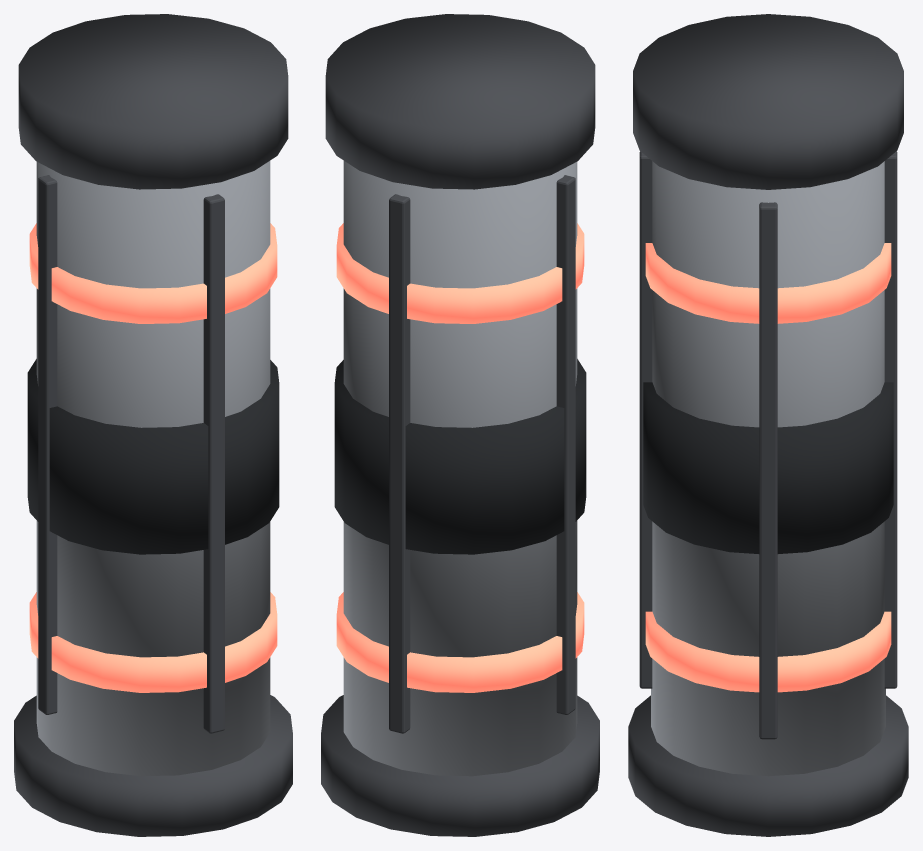
Rendered from ship_pillar.glb.
The picture shows the model from 3 angles, left to right: view 1: azimuth 30°, elevation 25°; view 2: azimuth 150°, elevation 25°; view 3: azimuth 270°, elevation 25°; orthographic projection.
Parts seen in each view (by area): view 1: ship_pillar; view 2: ship_pillar; view 3: ship_pillar.
Part boxes in pixels (x1,y1,x2,y2): ship_pillar: [14, 14, 292, 836]; ship_pillar: [321, 14, 599, 836]; ship_pillar: [628, 14, 908, 836].
Size of the model in its own units: 1.24 by 3.45 by 1.24.
